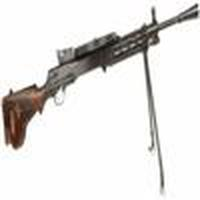gun: (2, 5, 199, 148)
